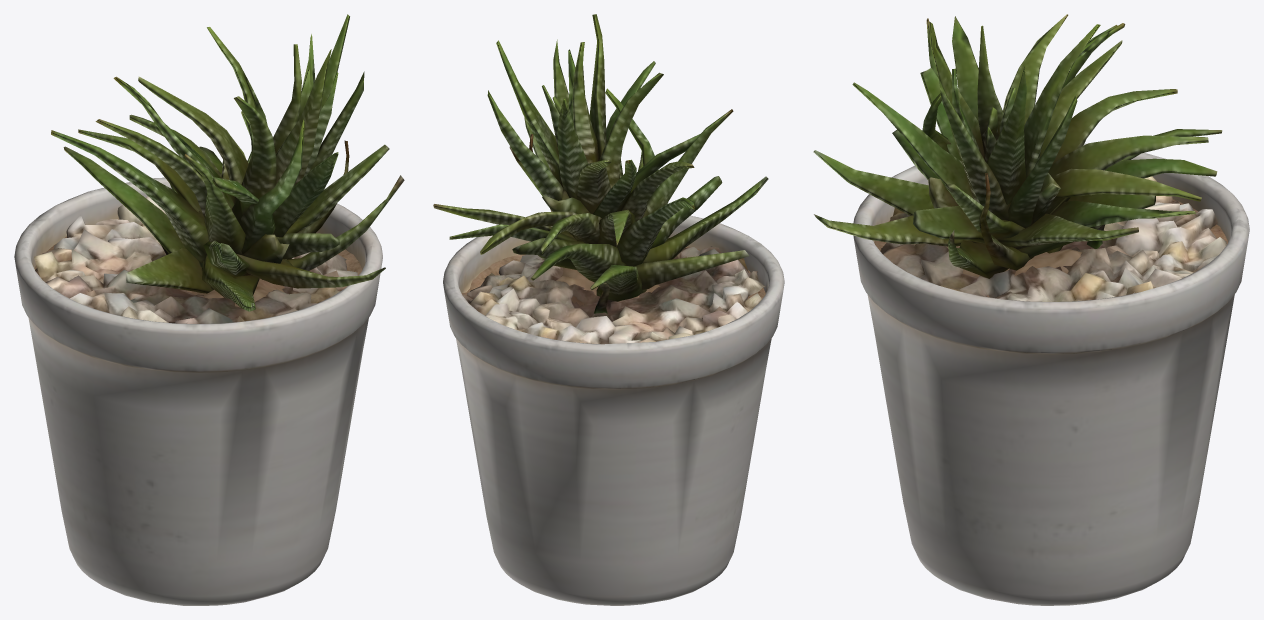
File: potted_plant_04_tv.gltf
3 views of the same model, side by side, from view 1: azimuth 30°, elevation 25°; view 2: azimuth 150°, elevation 25°; view 3: azimuth 270°, elevation 25° (orthographic). The views are drawn at different scales.
Visible parts, largest first — view 1: potted_plant_04_pot, potted_plant_04_plant, potted_plant_04_ground, potted_plant_04_dirt; view 2: potted_plant_04_pot, potted_plant_04_plant, potted_plant_04_ground, potted_plant_04_dirt; view 3: potted_plant_04_pot, potted_plant_04_plant, potted_plant_04_ground, potted_plant_04_dirt.
Part boxes in pixels (x1,y1,x2,y2): potted_plant_04_pot: (14, 177, 382, 605); potted_plant_04_plant: (51, 14, 404, 311); potted_plant_04_ground: (34, 196, 357, 323); potted_plant_04_dirt: (34, 219, 362, 307); potted_plant_04_pot: (443, 215, 784, 605); potted_plant_04_plant: (433, 14, 768, 313); potted_plant_04_ground: (462, 246, 765, 344); potted_plant_04_dirt: (461, 246, 765, 305); potted_plant_04_pot: (853, 143, 1249, 605); potted_plant_04_plant: (813, 14, 1222, 278); potted_plant_04_ground: (880, 176, 1226, 301); potted_plant_04_dirt: (874, 199, 1227, 297).
Bounding box in the file's own units: 0.1679 × 0.2672 × 0.1845.
1 material, 1 textured.
